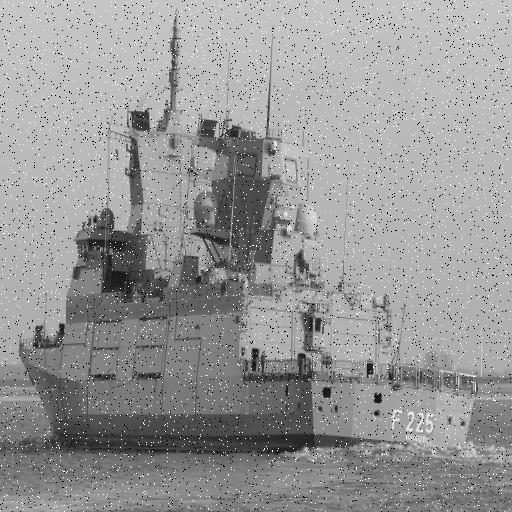Fragata: (17, 1, 480, 453)
